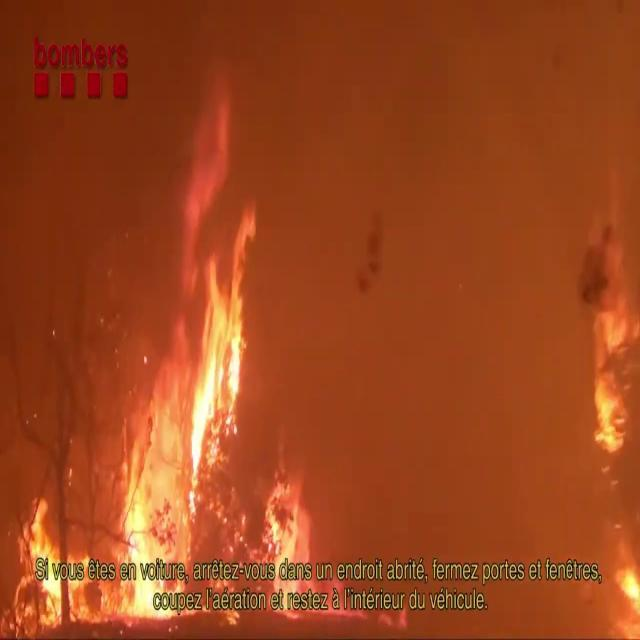Fire: (2, 392, 182, 631), (156, 187, 261, 522), (580, 283, 640, 457), (255, 472, 318, 572)
Smoke: (241, 2, 627, 530)
